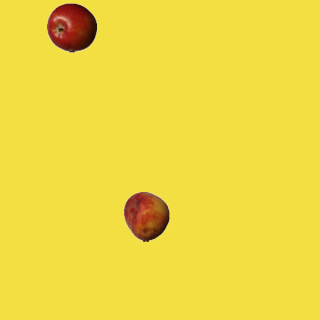Apple Braeburn: (46, 2, 96, 52)
Peach: (121, 191, 171, 241)
